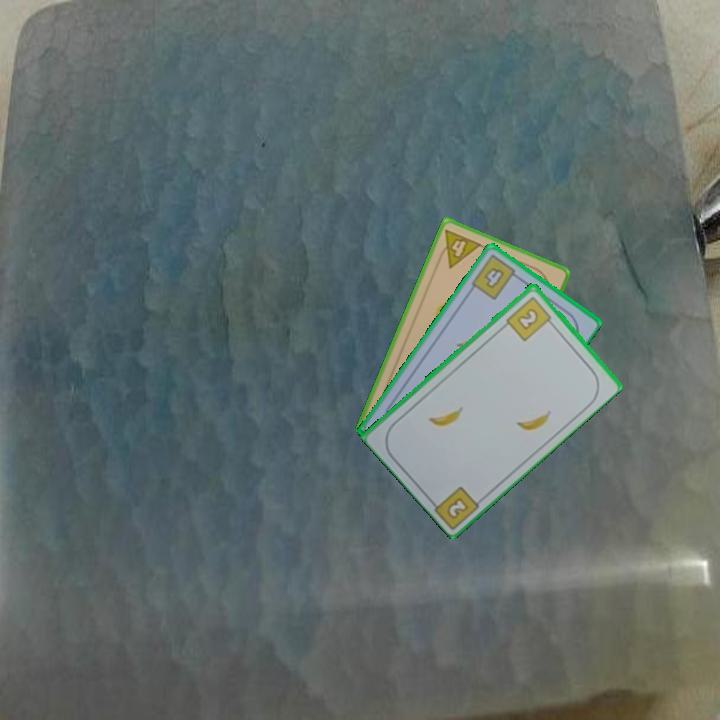2b: (503, 292, 557, 344), (443, 493, 471, 522)
4b: (468, 251, 523, 303)
4p: (433, 225, 484, 271)
